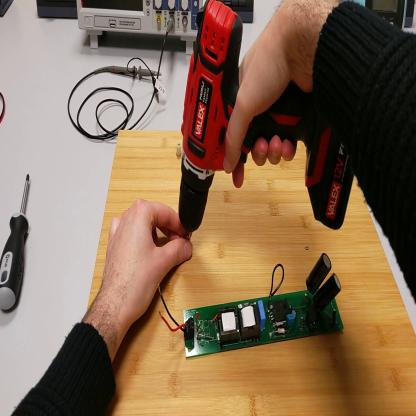electric screwdriver: (179, 1, 355, 233)
hand: (223, 7, 317, 190), (102, 198, 195, 325)
high voltage board: (159, 241, 346, 361)
oscilloscope: (77, 1, 204, 56)
oscilloscope probe tip: (100, 63, 164, 81)
screwdriver-: (2, 173, 33, 314)
socket: (37, 1, 78, 23), (405, 3, 415, 28), (1, 1, 15, 18)
welder station: (355, 3, 408, 34)
working area: (89, 129, 416, 416)
